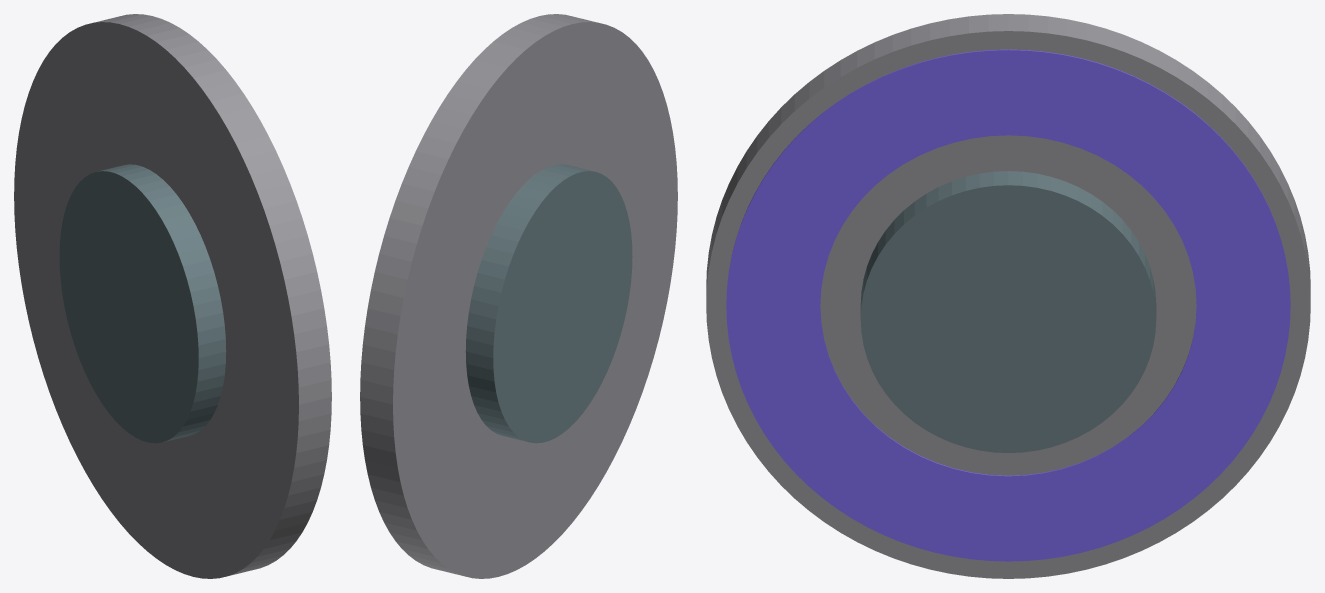
File: brake_disc_overheated.glb
3 views of the same model, side by side, from view 1: azimuth 30°, elevation 25°; view 2: azimuth 150°, elevation 25°; view 3: azimuth 270°, elevation 25° (orthographic). The views are drawn at different scales.
Parts seen in each view (by area): view 1: brake_disc_overheated; view 2: brake_disc_overheated; view 3: brake_disc_overheated.
Boxes of the visible parts, box(x1,y1,x2,y2) form: brake_disc_overheated: box(14, 14, 331, 578); brake_disc_overheated: box(360, 14, 677, 578); brake_disc_overheated: box(706, 14, 1310, 578).
Size of the model in its own units: 0.16 by 0.9 by 0.9.
